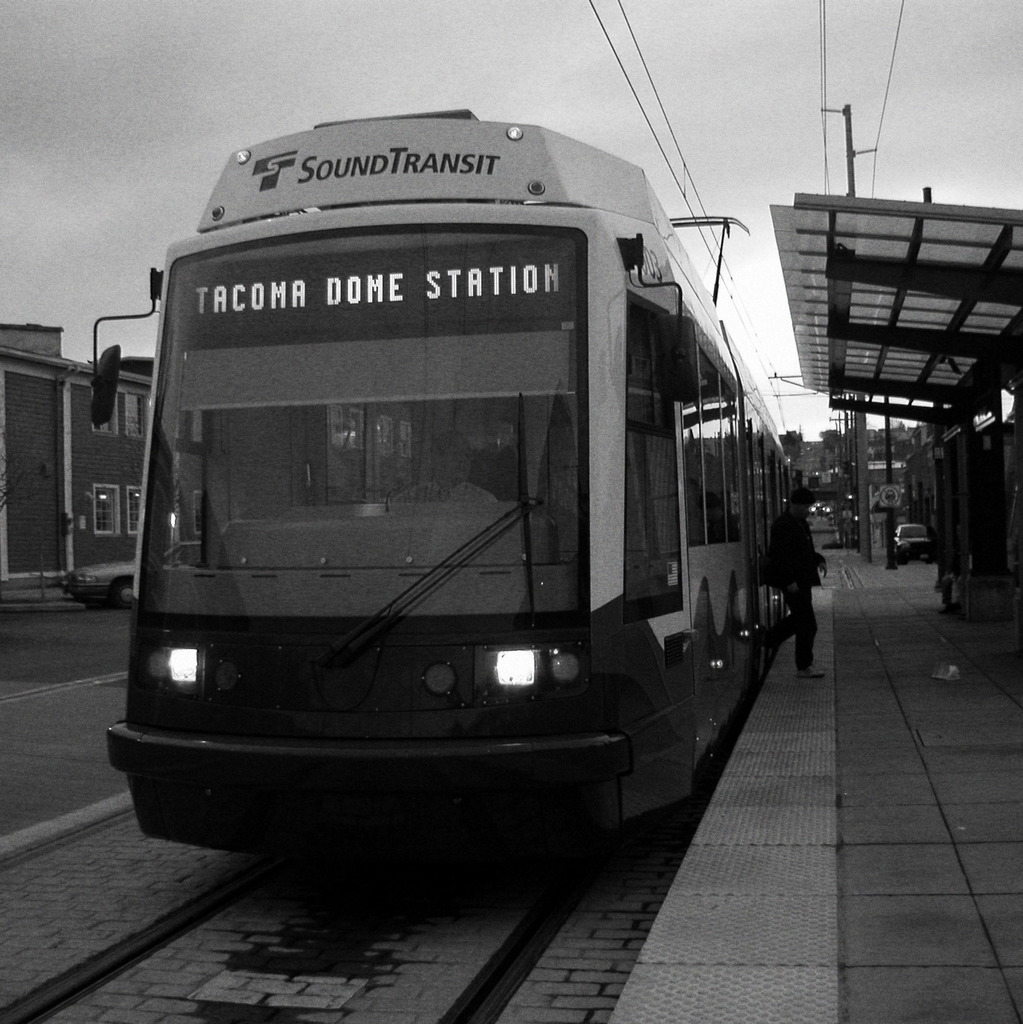Car: (60, 561, 133, 604), (894, 520, 926, 561)
